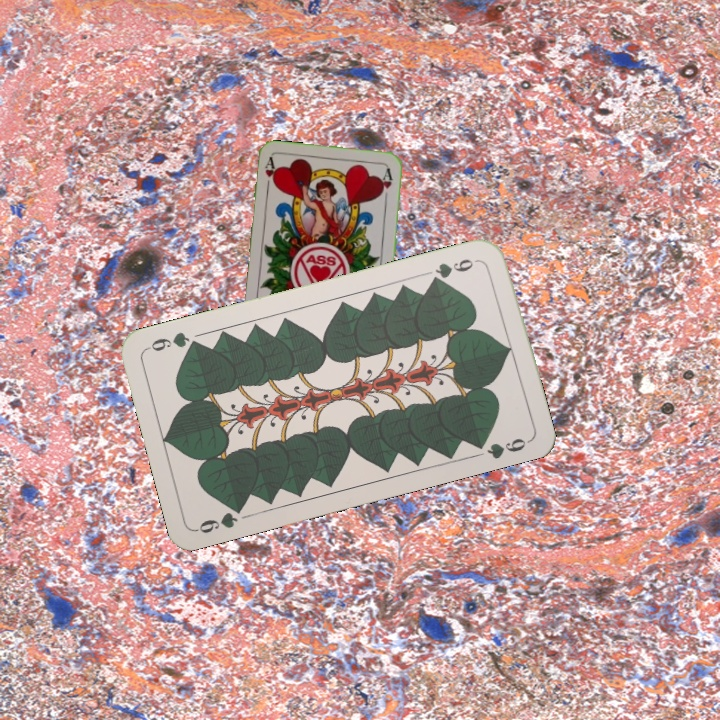G9: (192, 500, 248, 536), (427, 254, 483, 286)
HA: (261, 155, 278, 195)
